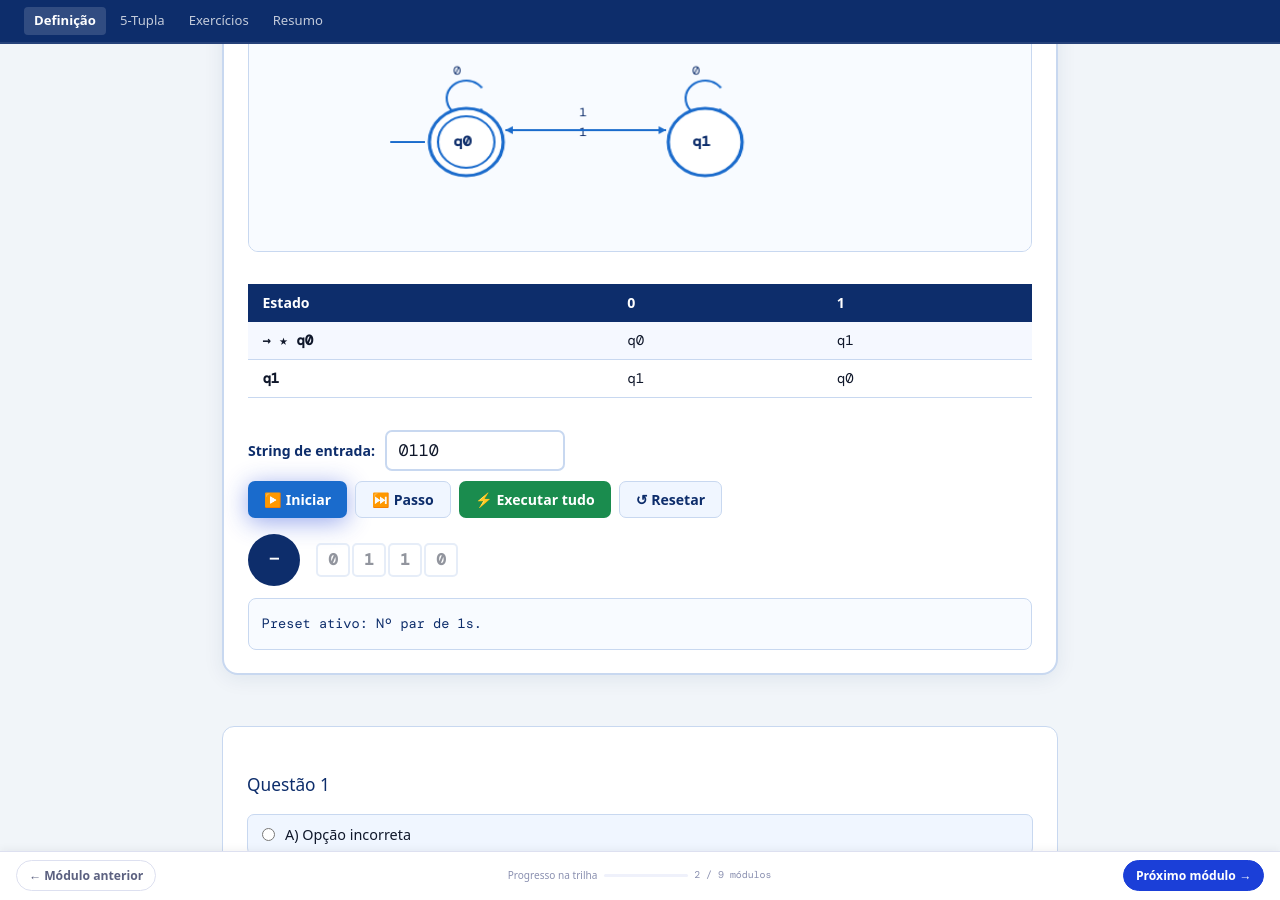
Test: módulo 2 importado no padrão do mockup › executa o simulador do mockup no módulo 2
The width and height of the screenshot is (1280, 900).
(page scrolled)
Replace the text in the field labelled "String de entrada:" with "11" at (475, 450), box [385,430,565,471]
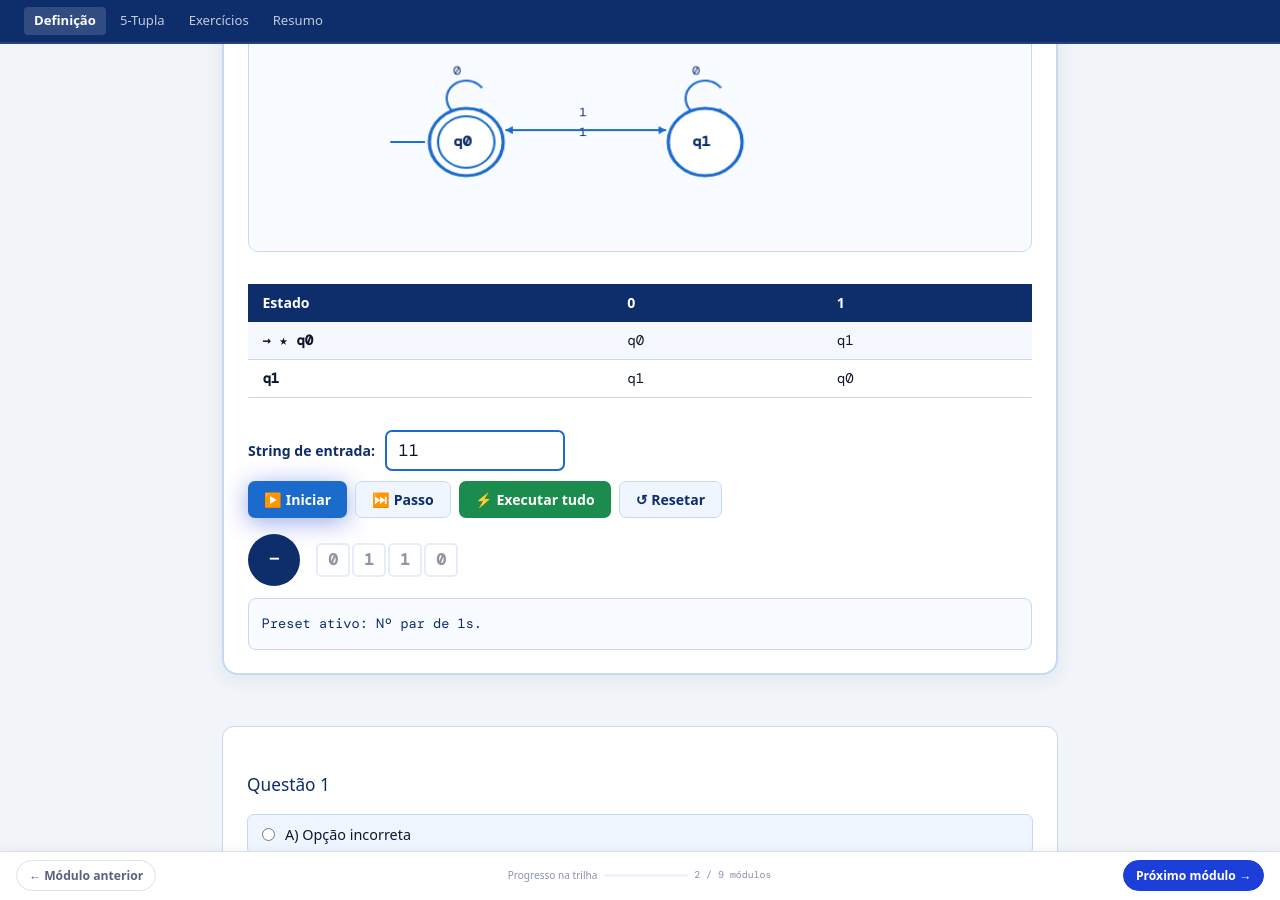
Click the button "▶ Iniciar" at (298, 499), box [248,480,347,518]
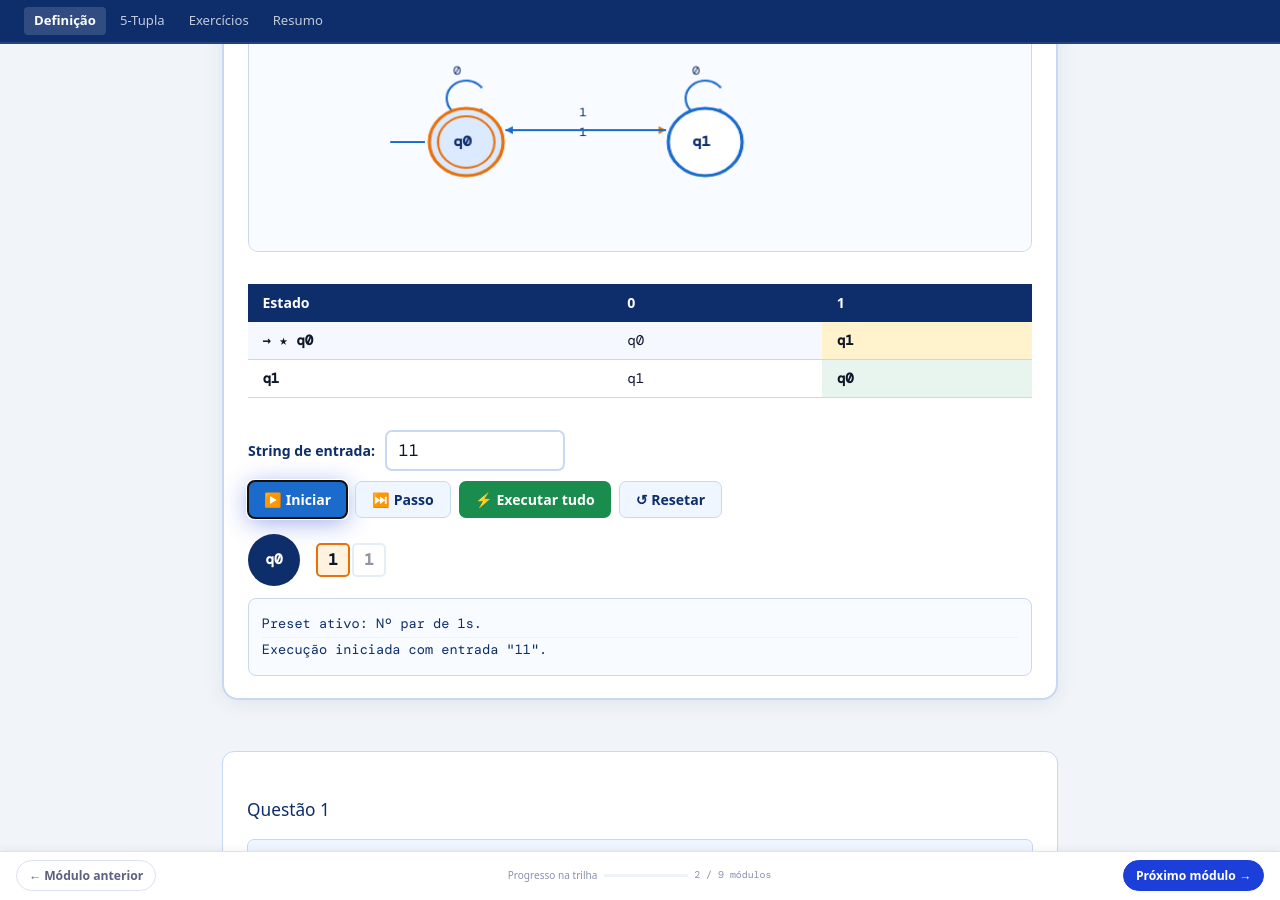
Click the button "⚡ Executar tudo" at (535, 499), box [459,480,611,518]
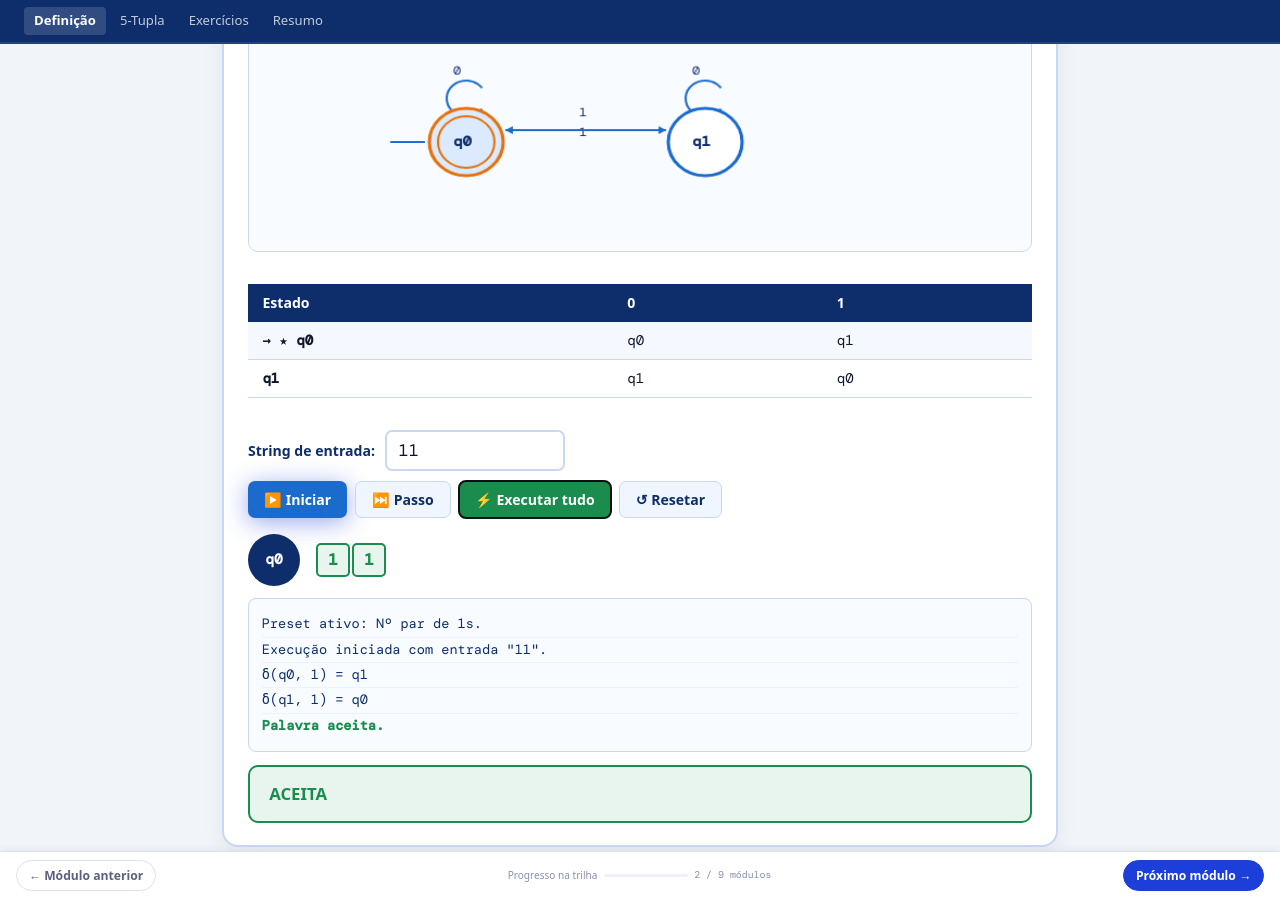
Expected: the text "ACEITA" is shown, [248,765,1032,823]
Expected: the text "Palavra aceita." is shown, [262,717,384,734]
